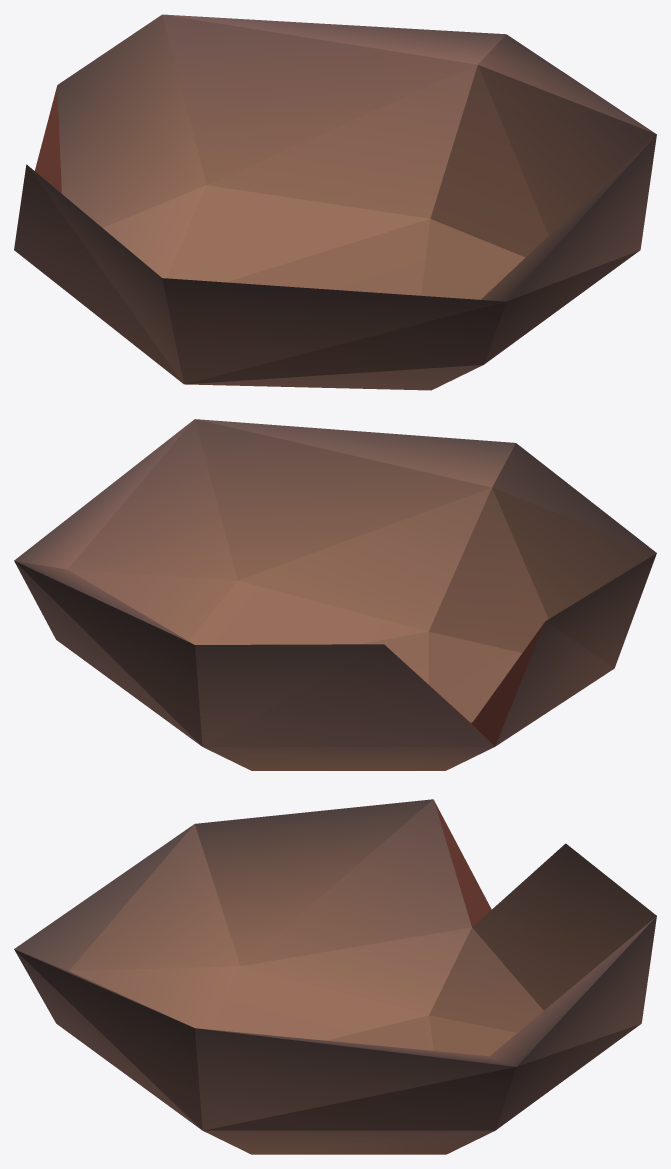
Rendered from Mixed_Bowl_02.fbx.
3 views of the same model, one above another, from view 1: azimuth 30°, elevation 25°; view 2: azimuth 150°, elevation 25°; view 3: azimuth 270°, elevation 25° (orthographic). The views are drawn at different scales.
Visible parts, largest first — view 1: Bowl_02.001; view 2: Bowl_02.001; view 3: Bowl_02.001.
Boxes of the visible parts, left/top/right/bottom form: Bowl_02.001: left=14, top=14, right=656, bottom=390; Bowl_02.001: left=14, top=419, right=656, bottom=770; Bowl_02.001: left=14, top=799, right=656, bottom=1154.
Size of the model in its own units: 118 by 39.24 by 135.
